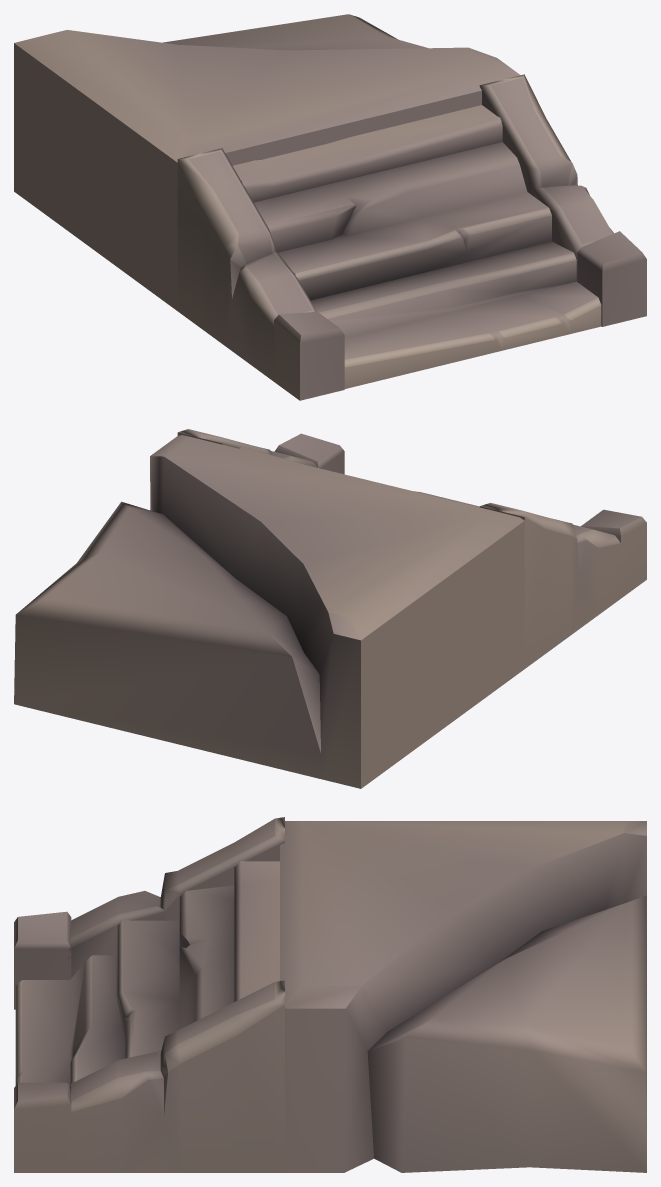
Rendered from buildings-ruins-ancientruins_v10.glb.
3 views of the same model, one above another, from view 1: azimuth 30°, elevation 25°; view 2: azimuth 150°, elevation 25°; view 3: azimuth 270°, elevation 25° (orthographic). The views are drawn at different scales.
Parts seen in each view (by area): view 1: AncientRuins_v10; view 2: AncientRuins_v10; view 3: AncientRuins_v10.
Boxes of the visible parts, x1,y1,x2,y2 form: AncientRuins_v10: [14, 14, 646, 400]; AncientRuins_v10: [14, 429, 646, 788]; AncientRuins_v10: [14, 817, 646, 1172].
Bounding box in the file's own units: 4.71 × 2.05 × 6.7.
